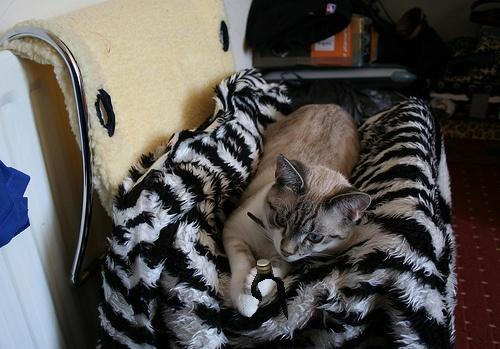tampered: (252, 258, 288, 320)
